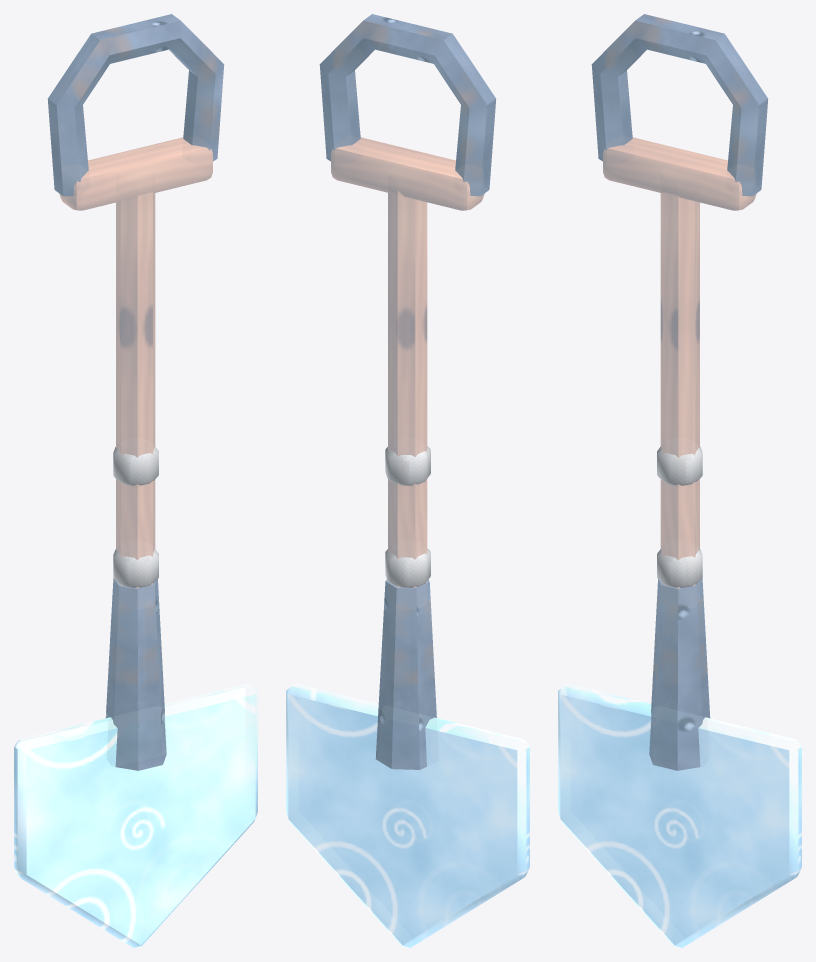
The model's file is shovel_t2.gltf.
3 renders of one model, left to right at view 1: azimuth 30°, elevation 25°; view 2: azimuth 150°, elevation 25°; view 3: azimuth 330°, elevation 25°, orthographic.
Parts seen in each view (by area): view 1: shovel_t2_mesh; view 2: shovel_t2_mesh; view 3: shovel_t2_mesh.
Boxes of the visible parts, x1,y1,x2,y2 form: shovel_t2_mesh: [14, 14, 257, 947]; shovel_t2_mesh: [286, 14, 529, 947]; shovel_t2_mesh: [558, 14, 801, 947].
Bounding box in the file's own units: 0.34 × 1.24 × 0.076.
Materials: 4 (4 with a texture image).
